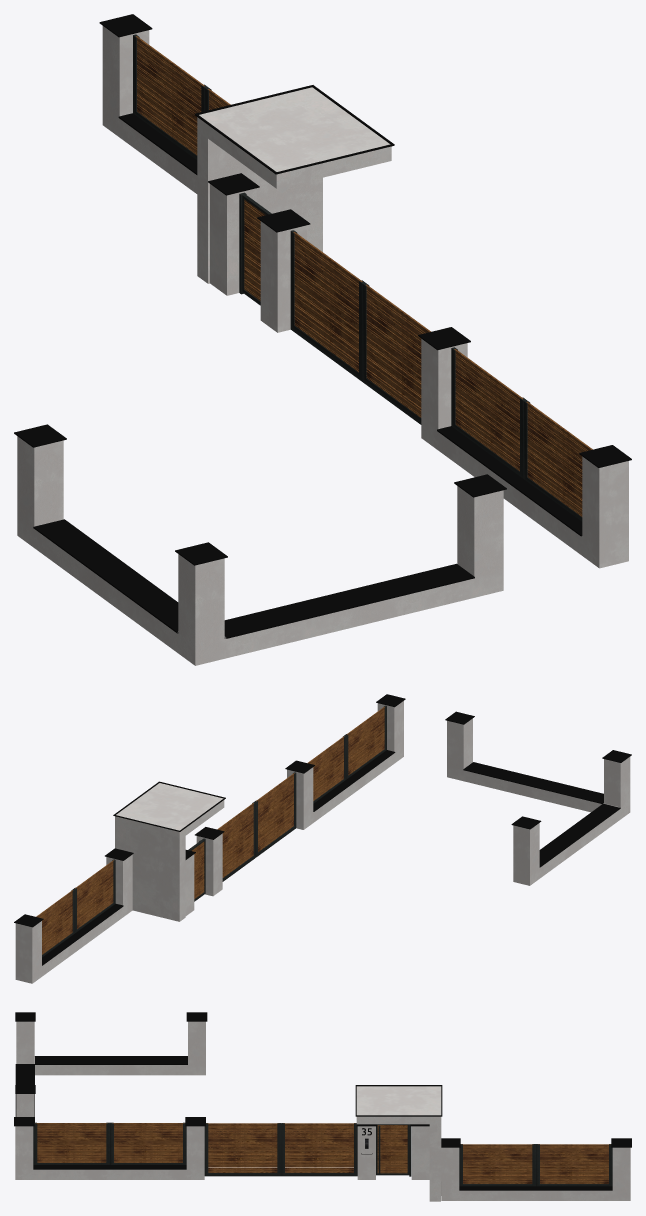
File: modern_fence_set.glb
The picture shows the model from 3 angles, top to bottom: view 1: azimuth 30°, elevation 25°; view 2: azimuth 150°, elevation 25°; view 3: azimuth 270°, elevation 25°; orthographic projection. The views are drawn at different scales.
Visible parts, largest first — view 1: L Corner, Wall, MainWall, WoodWall, Wall2, Main Corner, Door; view 2: L Corner, MainWall, Wall2, Wall, WoodWall, Main Corner, Door; view 3: Wall, Wall2, WoodWall, L Corner, MainWall, Door, Main Corner.
Part boxes in pixels (x1,y1,x2,y2): L Corner: [14, 424, 506, 665]; Wall: [418, 327, 631, 568]; MainWall: [194, 85, 394, 295]; WoodWall: [290, 230, 430, 424]; Wall2: [99, 14, 230, 193]; Main Corner: [257, 209, 310, 332]; Door: [239, 192, 271, 305]; L Corner: [445, 711, 631, 885]; MainWall: [113, 781, 225, 921]; Wall2: [14, 848, 133, 983]; Wall: [285, 694, 405, 829]; WoodWall: [217, 772, 296, 881]; Main Corner: [195, 827, 224, 896]; Door: [188, 838, 205, 901]; Wall: [14, 1117, 205, 1179]; Wall2: [441, 1138, 631, 1200]; WoodWall: [204, 1123, 357, 1176]; L Corner: [15, 1012, 207, 1122]; MainWall: [355, 1085, 442, 1201]; Door: [376, 1124, 411, 1176]; Main Corner: [356, 1124, 376, 1179].
Size of the model in its own units: 11.97 by 3.56 by 23.16.
8 materials, 4 textured.
